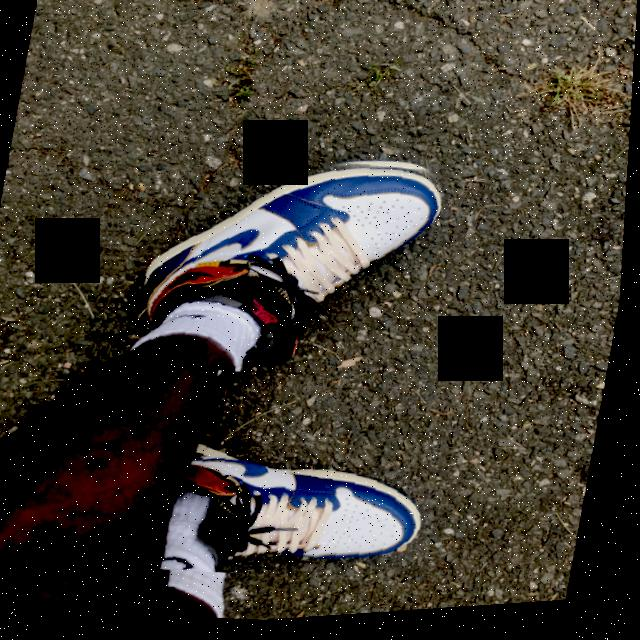shoe: (84, 127, 469, 406), (134, 412, 473, 608)
